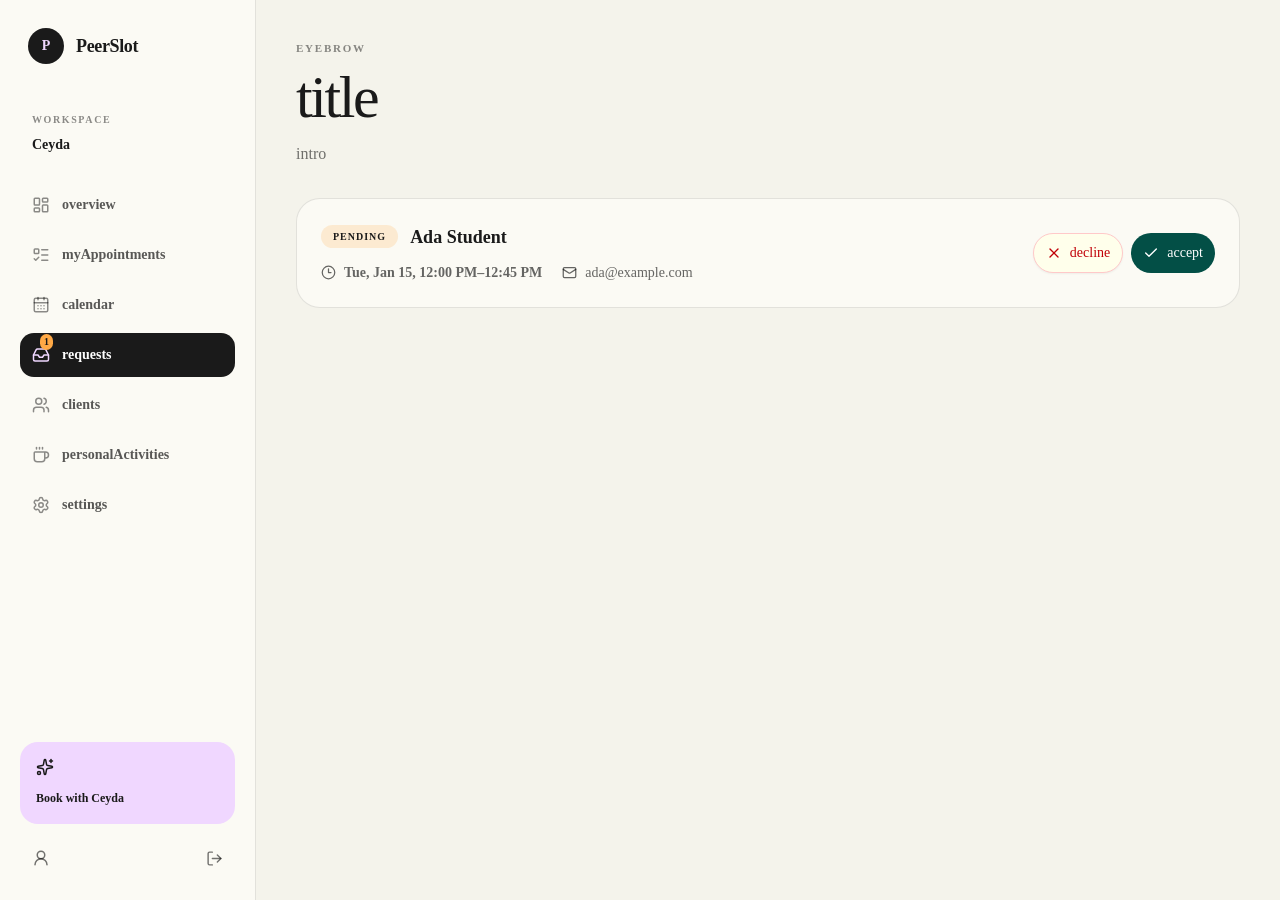
Test: provider request navigation badge › keeps the badge when a review fails
Expected: the text "1" is shown, [40, 334, 53, 350]
Click the button "accept" at (1173, 252), box [1131, 232, 1215, 272]
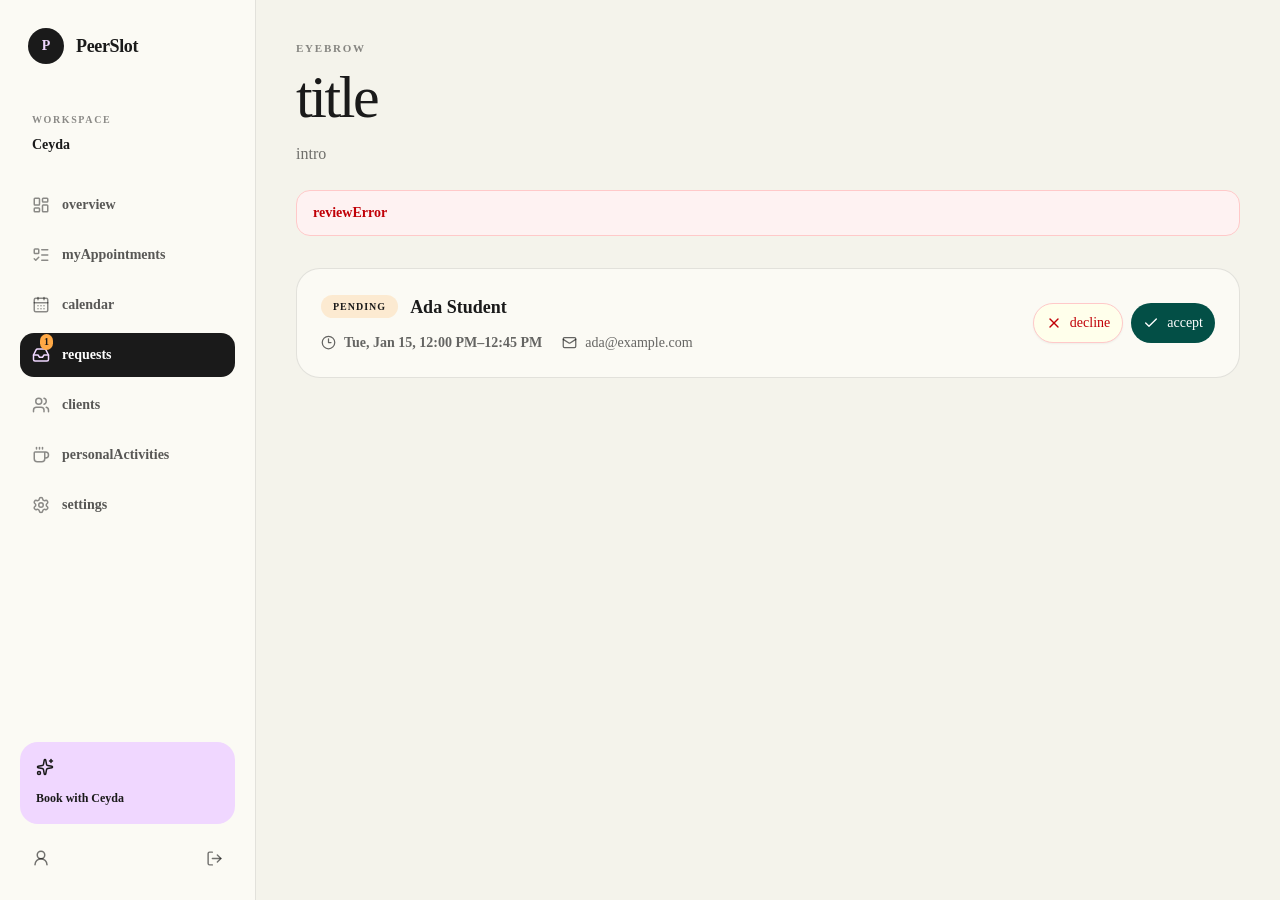
Expected: the text "1" is shown, [40, 334, 53, 350]
Expected: the text "reviewError" is shown, [296, 190, 1240, 236]
